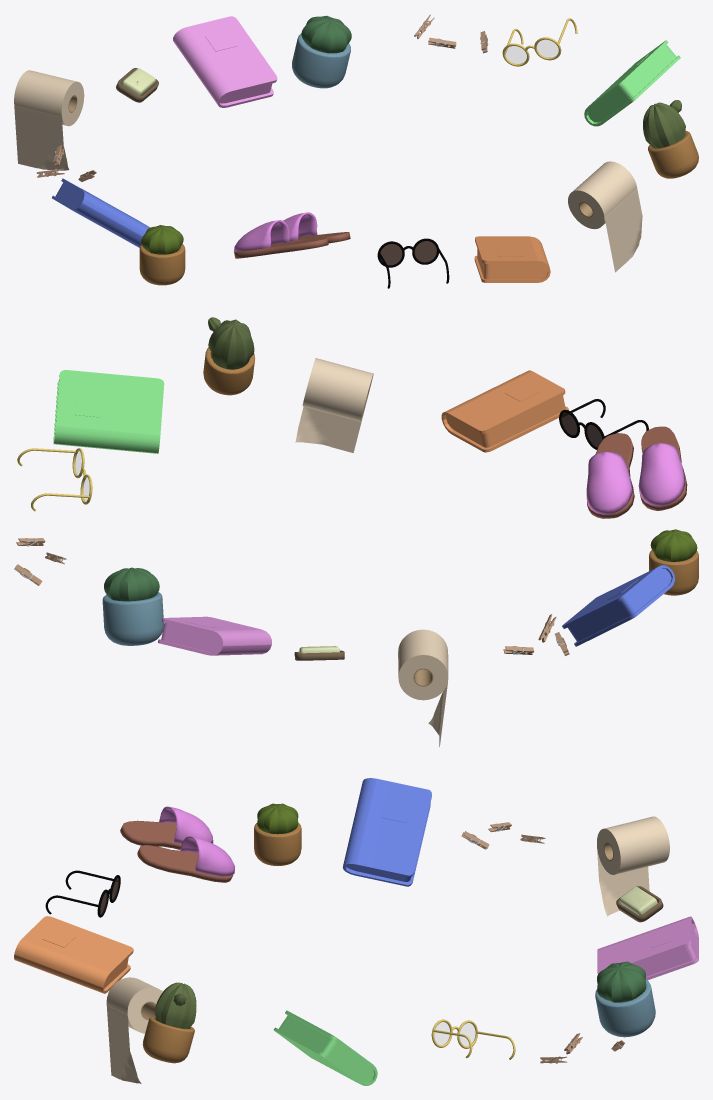
The model's file is omatesineet.fbx.
3 views of the same model, one above another, from view 1: azimuth 30°, elevation 25°; view 2: azimuth 150°, elevation 25°; view 3: azimuth 270°, elevation 25° (orthographic). The views are drawn at different scales.
Visible parts, largest first — view 1: Kirja, vessapaperi, vessapaperi2, Ruukku2.001, Kirja.003, Ruukku1, Aamutossut, Kirja.001, Ruukku2, Kirja.002, Aurinkolasit, Silmälasit (+1 smaller); view 2: Kirja.001, Aamutossut, Kirja.003, vessapaperi2, Ruukku2.001, Kirja.002, vessapaperi, Kirja, Ruukku1, Ruukku2, Aurinkolasit, Silmälasit (+1 smaller); view 3: Kirja.002, Kirja.003, Aamutossut, vessapaperi, Kirja, Ruukku2.001, vessapaperi2, Ruukku1, Kirja.001, Ruukku2, Silmälasit, Saippua (+1 smaller).
Boxes of the visible parts, box(x1,y1,x2,y2) form: Kirja: box(173, 16, 277, 107); vessapaperi: box(14, 70, 84, 170); vessapaperi2: box(568, 161, 642, 272); Ruukku2.001: box(292, 15, 351, 88); Kirja.003: box(474, 236, 550, 282); Ruukku1: box(643, 100, 698, 178); Aamutossut: box(233, 212, 350, 258); Kirja.001: box(584, 40, 680, 126); Ruukku2: box(139, 225, 185, 285); Kirja.002: box(52, 178, 149, 247); Aurinkolasit: box(377, 238, 449, 288); Silmälasit: box(502, 18, 577, 66); Kirja.001: box(53, 370, 164, 453); Aamutossut: box(586, 426, 687, 518); Kirja.003: box(441, 370, 568, 452); vessapaperi2: box(295, 358, 373, 452); Ruukku2.001: box(102, 567, 163, 645); Kirja.002: box(562, 565, 674, 646); vessapaperi: box(398, 629, 448, 746); Kirja: box(158, 616, 271, 655); Ruukku1: box(203, 317, 255, 395); Ruukku2: box(649, 529, 698, 595); Aurinkolasit: box(559, 399, 648, 449); Silmälasit: box(17, 448, 92, 511); Kirja.002: box(342, 778, 431, 886); Kirja.003: box(14, 916, 133, 993); Aamutossut: box(120, 806, 234, 882); vessapaperi: box(597, 816, 669, 916); Kirja: box(597, 916, 698, 980); Ruukku2.001: box(595, 961, 655, 1037); vessapaperi2: box(106, 977, 162, 1083); Ruukku1: box(142, 982, 196, 1063); Kirja.001: box(274, 1010, 377, 1085); Ruukku2: box(254, 803, 301, 865); Silmälasit: box(431, 1019, 515, 1059); Saippua: box(616, 886, 663, 922).
Bounding box in the file's own units: 1.48 × 0.3034 × 1.44.
